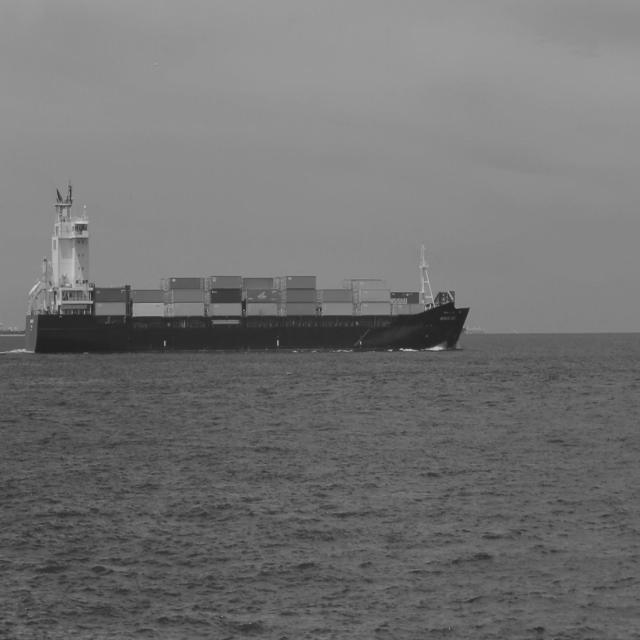ship: (24, 179, 472, 353)
